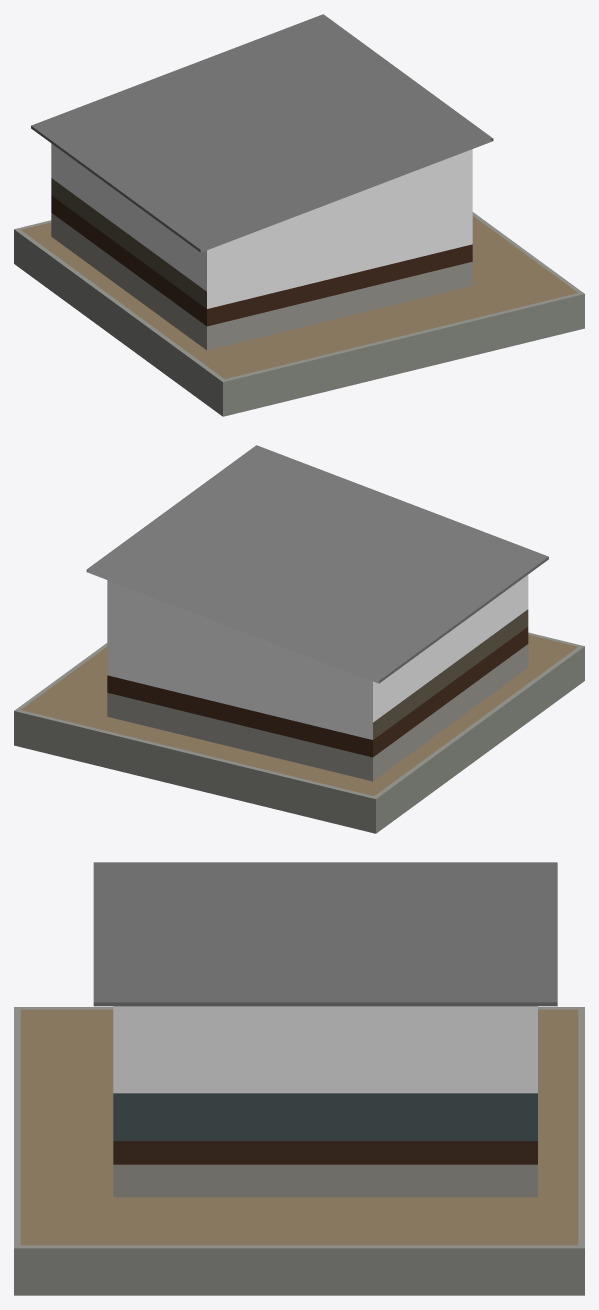
File: site_hut5_far.fbx
The picture shows the model from 3 angles, top to bottom: view 1: azimuth 30°, elevation 25°; view 2: azimuth 150°, elevation 25°; view 3: azimuth 270°, elevation 25°; orthographic projection. The views are drawn at different scales.
Parts seen in each view (by area): view 1: a2015.site_hut5.far; view 2: a2015.site_hut5.far; view 3: a2015.site_hut5.far.
Boxes of the visible parts, bbox=[...] form: a2015.site_hut5.far: bbox=[14, 14, 584, 416]; a2015.site_hut5.far: bbox=[14, 445, 584, 833]; a2015.site_hut5.far: bbox=[14, 862, 584, 1295].
Bounding box in the file's own units: 10.4 × 5.05 × 10.4.
